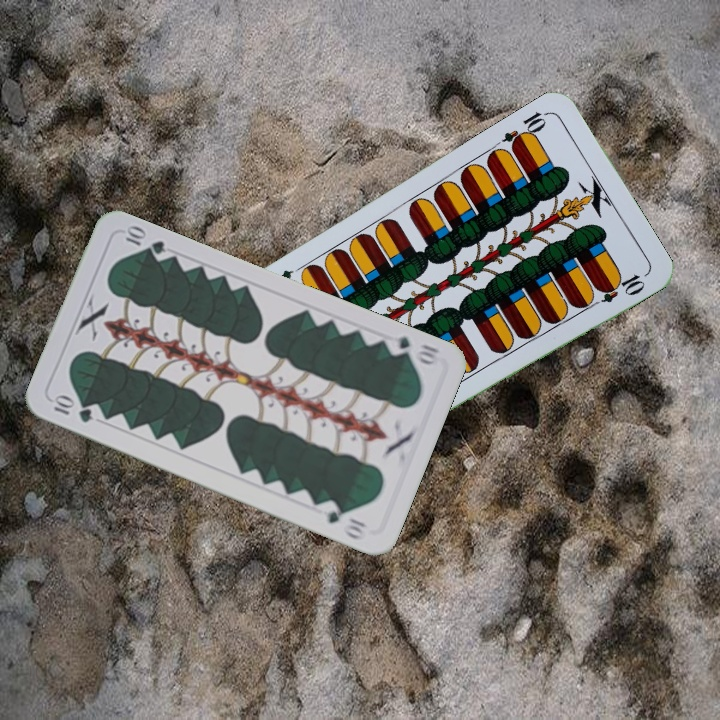E10: (498, 107, 552, 153)
G10: (382, 332, 442, 369), (48, 392, 95, 426)
